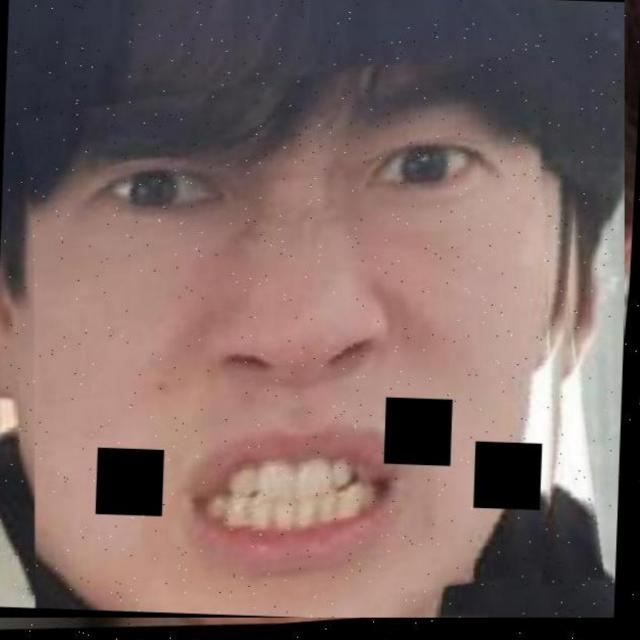Angry: (24, 2, 640, 640)
